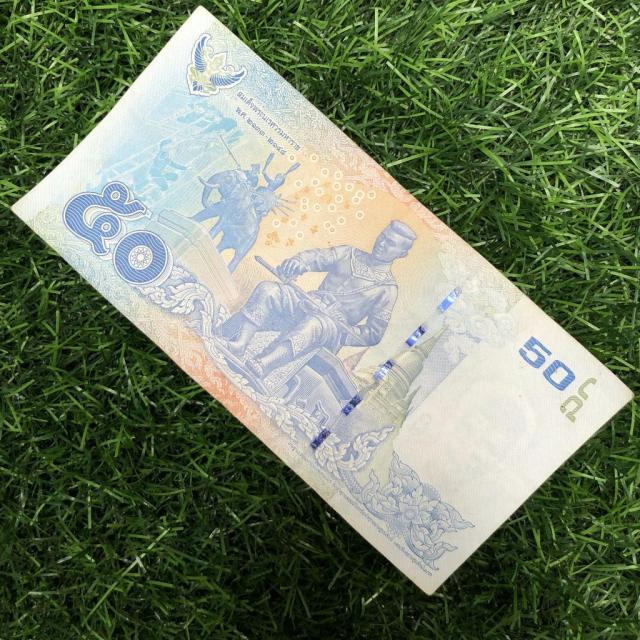THAI50: (13, 8, 632, 593)
